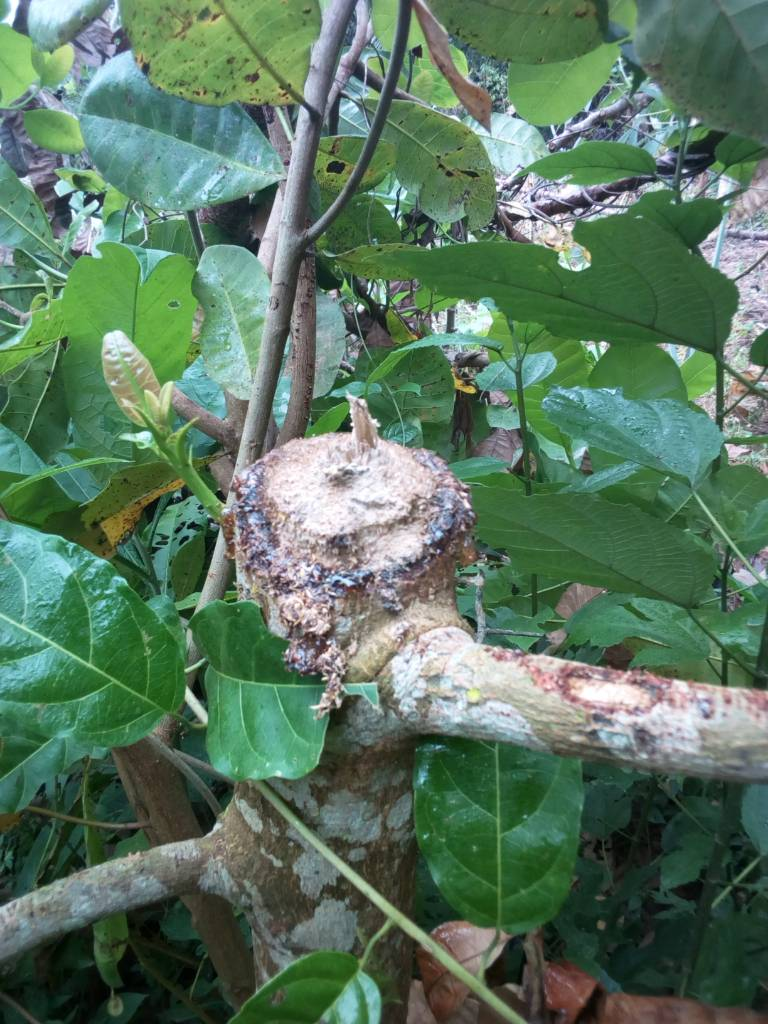Analepse trifasciata: (225, 382, 488, 591)
